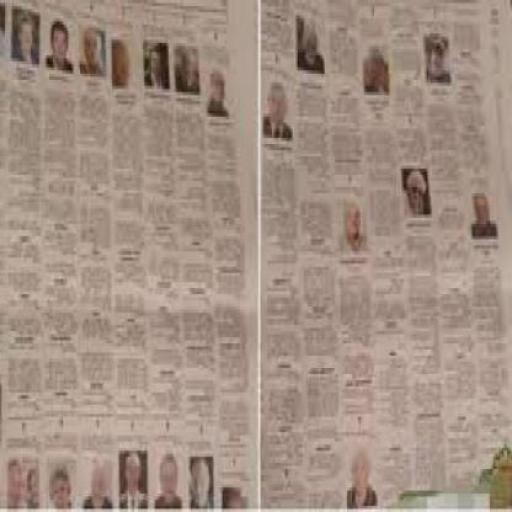paper: (2, 0, 511, 510)
